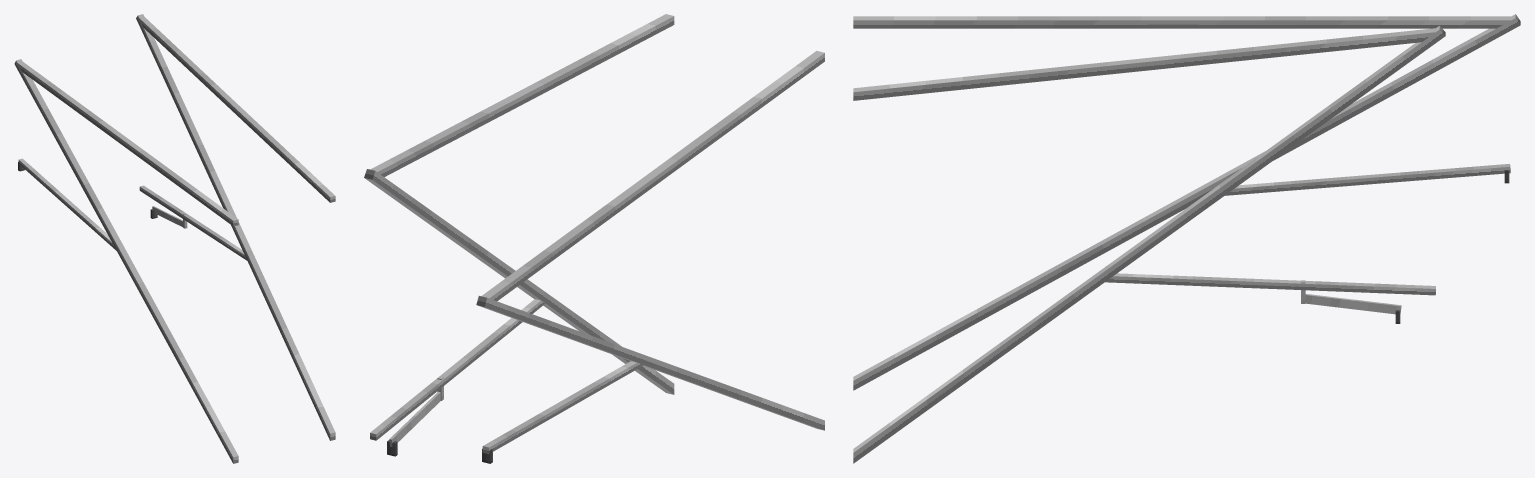
The model's file is cantilever_inner_5px.obj.
3 renders of one model, left to right at view 1: azimuth 30°, elevation 25°; view 2: azimuth 150°, elevation 25°; view 3: azimuth 270°, elevation 25°, orthographic. The views are drawn at different scales.
Visible parts, largest first — view 1: a1b5ba62-60b3-4450-8549-d2a285d01187, 5c6b3572-9bd8-49ae-af77-69211d6362c3, 4b2b42db-4be3-46eb-847f-82113523951f, 546b31c5-0193-42c3-a802-92c0ec3e03d8, 5941d7b6-c5f0-4c1f-8d62-3d7d78af728e, 27dadaf3-886b-4720-8142-fa9982694767; view 2: 4b2b42db-4be3-46eb-847f-82113523951f, 546b31c5-0193-42c3-a802-92c0ec3e03d8, a1b5ba62-60b3-4450-8549-d2a285d01187, 5c6b3572-9bd8-49ae-af77-69211d6362c3, 5941d7b6-c5f0-4c1f-8d62-3d7d78af728e, 27dadaf3-886b-4720-8142-fa9982694767, 42947184-e235-47de-905b-5a42967da780; view 3: 5c6b3572-9bd8-49ae-af77-69211d6362c3, a1b5ba62-60b3-4450-8549-d2a285d01187, 4b2b42db-4be3-46eb-847f-82113523951f, 546b31c5-0193-42c3-a802-92c0ec3e03d8, 5941d7b6-c5f0-4c1f-8d62-3d7d78af728e, 27dadaf3-886b-4720-8142-fa9982694767, 42947184-e235-47de-905b-5a42967da780.
Boxes of the visible parts, x1,y1,x2,y2 form: a1b5ba62-60b3-4450-8549-d2a285d01187: [14, 59, 238, 463]; 5c6b3572-9bd8-49ae-af77-69211d6362c3: [136, 14, 335, 440]; 4b2b42db-4be3-46eb-847f-82113523951f: [17, 61, 238, 226]; 546b31c5-0193-42c3-a802-92c0ec3e03d8: [139, 16, 335, 202]; 5941d7b6-c5f0-4c1f-8d62-3d7d78af728e: [139, 185, 247, 260]; 27dadaf3-886b-4720-8142-fa9982694767: [18, 158, 116, 250]; 4b2b42db-4be3-46eb-847f-82113523951f: [481, 50, 824, 301]; 546b31c5-0193-42c3-a802-92c0ec3e03d8: [370, 14, 674, 176]; a1b5ba62-60b3-4450-8549-d2a285d01187: [476, 296, 824, 430]; 5c6b3572-9bd8-49ae-af77-69211d6362c3: [364, 169, 674, 394]; 5941d7b6-c5f0-4c1f-8d62-3d7d78af728e: [370, 299, 545, 440]; 27dadaf3-886b-4720-8142-fa9982694767: [482, 361, 643, 454]; 42947184-e235-47de-905b-5a42967da780: [389, 391, 440, 446]; 5c6b3572-9bd8-49ae-af77-69211d6362c3: [853, 25, 1445, 463]; a1b5ba62-60b3-4450-8549-d2a285d01187: [853, 14, 1520, 390]; 4b2b42db-4be3-46eb-847f-82113523951f: [853, 16, 1511, 28]; 546b31c5-0193-42c3-a802-92c0ec3e03d8: [853, 28, 1435, 100]; 5941d7b6-c5f0-4c1f-8d62-3d7d78af728e: [1105, 273, 1435, 295]; 27dadaf3-886b-4720-8142-fa9982694767: [1225, 163, 1510, 195]; 42947184-e235-47de-905b-5a42967da780: [1305, 294, 1401, 314].
Size of the model in its own units: 1.19 by 3.16 by 4.4.
